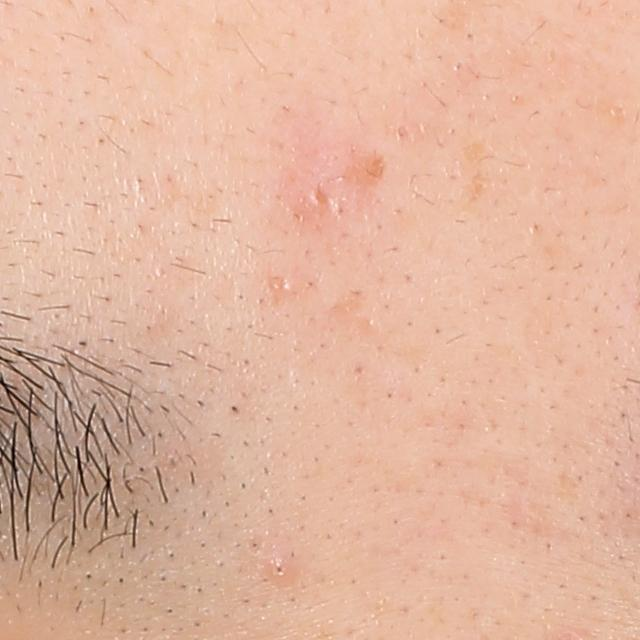papule: (300, 174, 348, 227), (263, 555, 297, 586)
